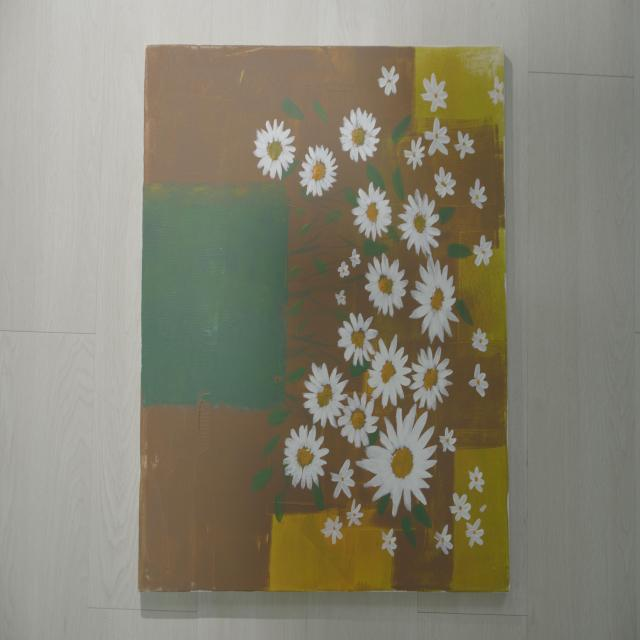painting: (139, 46, 508, 591)
